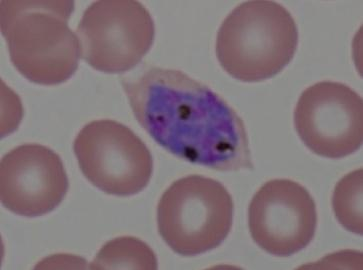Infected: (108, 97, 243, 202)
Uninfected: (66, 188, 148, 270), (209, 196, 292, 270), (211, 73, 290, 150), (130, 13, 205, 93), (282, 185, 357, 260), (0, 111, 69, 189), (46, 13, 114, 91), (295, 52, 362, 125)
